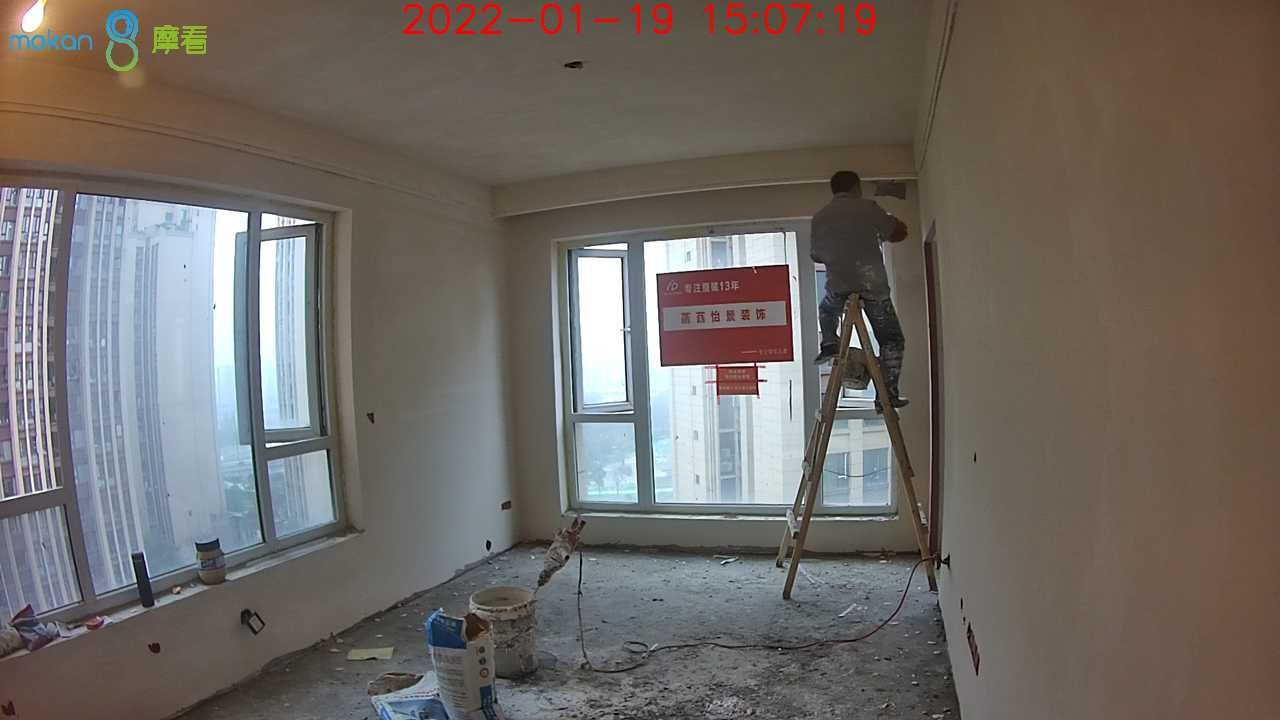people: (809, 173, 908, 410)
window: (3, 183, 356, 611), (558, 224, 899, 517)
